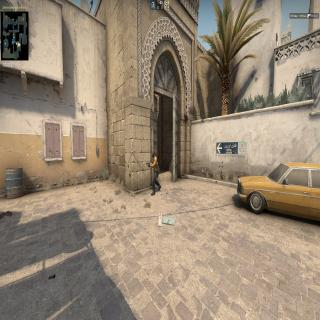T-Head: (151, 149, 155, 159)
